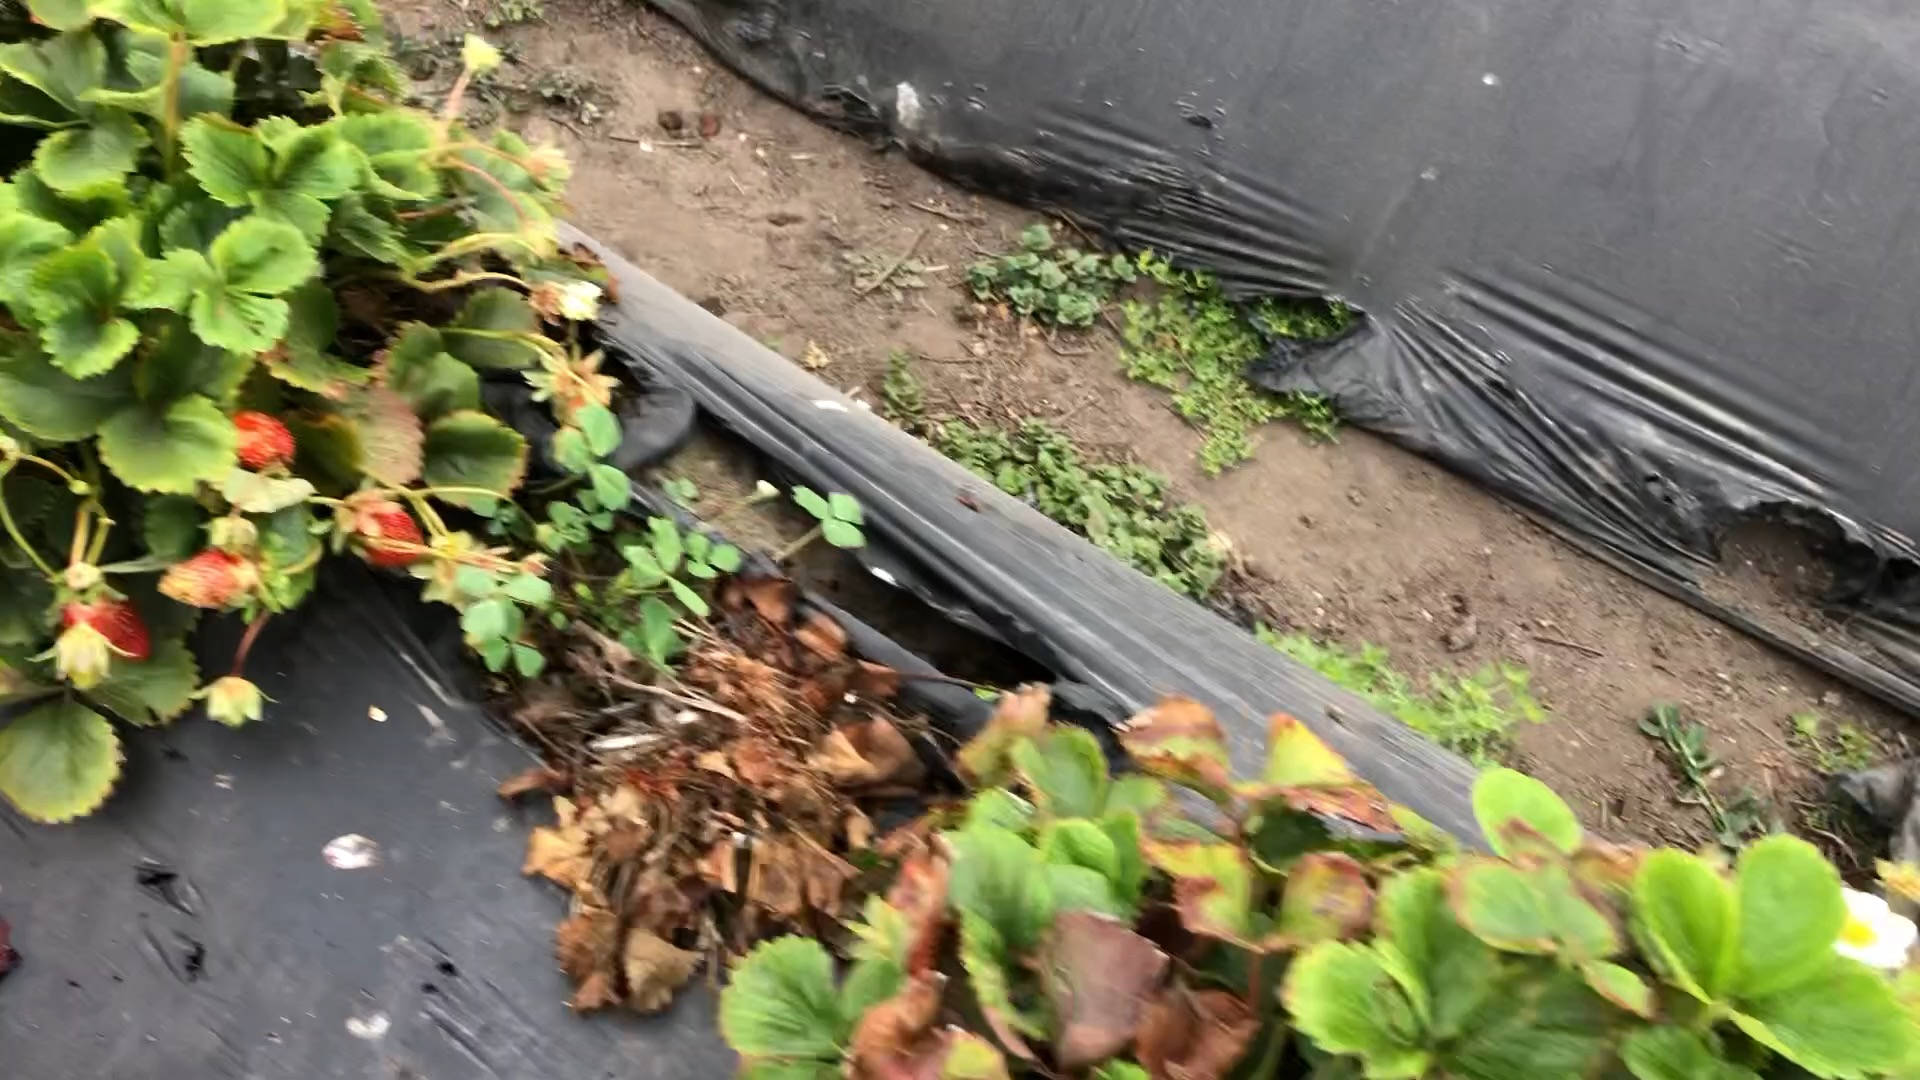ripe_strawberry: (352, 502, 425, 568), (225, 411, 299, 475)
unripe_strawberry: (58, 585, 158, 666), (157, 549, 255, 607), (54, 625, 109, 694)
